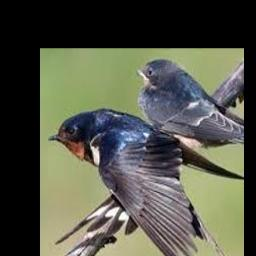Swallow: (48, 108, 244, 256), (138, 58, 244, 142)
